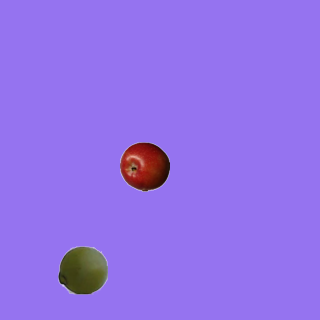Apple Braeburn: (119, 141, 169, 191)
Grape White 4: (57, 244, 107, 294)
